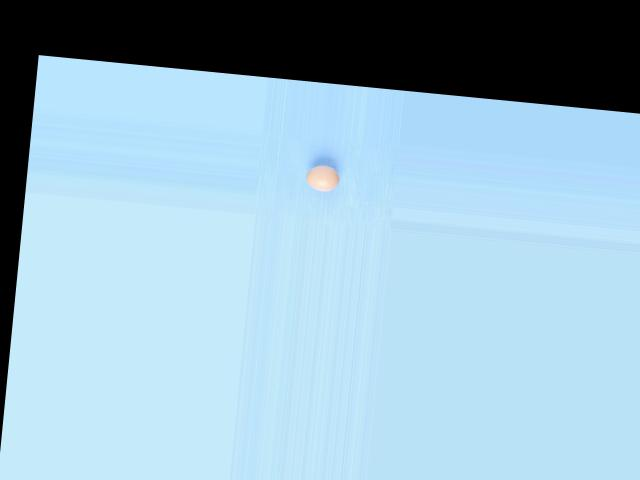egg: (305, 162, 340, 192)
